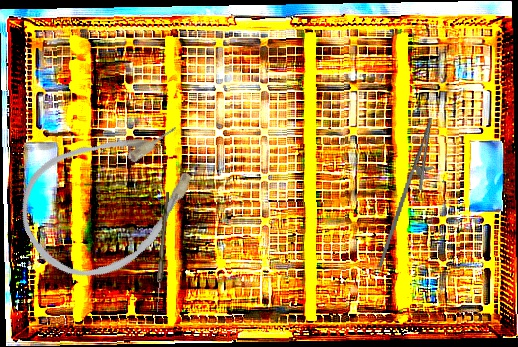Cannula: (0, 97, 224, 301)
Needle Holder: (377, 113, 445, 274)
Surgical Spoon: (154, 191, 170, 313)
